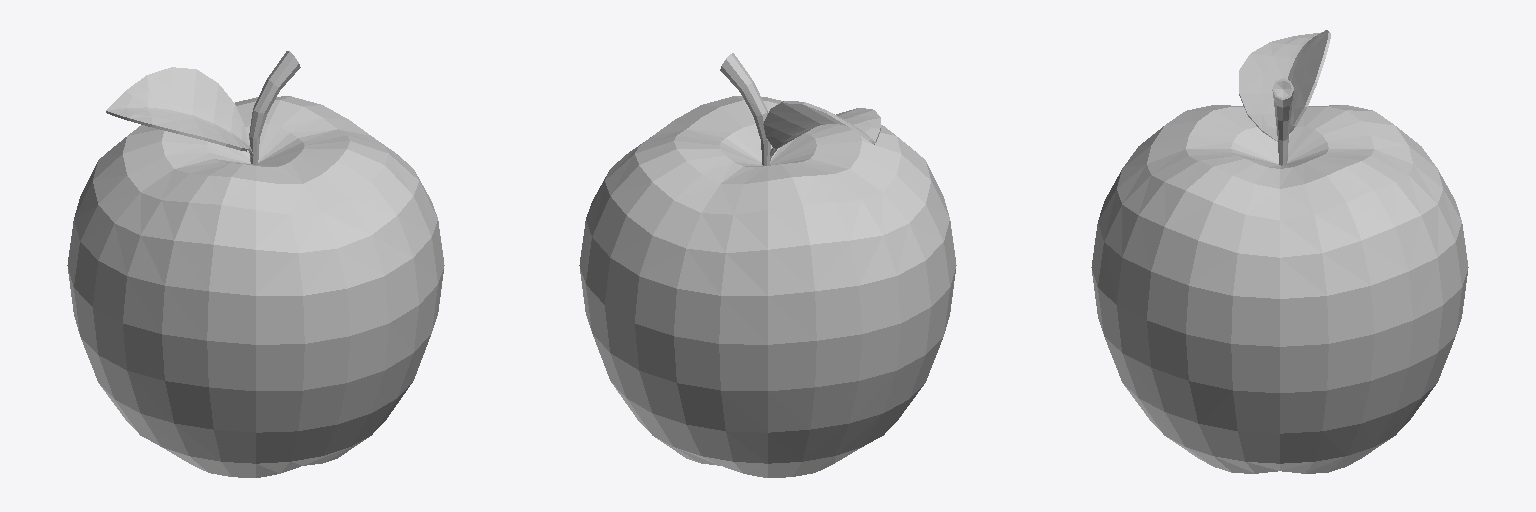
The model's file is jablko.obj.
3 renders of one model, left to right at view 1: azimuth 30°, elevation 25°; view 2: azimuth 150°, elevation 25°; view 3: azimuth 270°, elevation 25°, orthographic.
Visible parts, largest first — view 1: Apple; view 2: Apple; view 3: Apple.
Part boxes in pixels (left/top/right/bottom): Apple: left=67, top=51, right=444, bottom=477; Apple: left=579, top=53, right=956, bottom=477; Apple: left=1091, top=30, right=1468, bottom=473.
Bounding box in the file's own units: 79.89 × 91.12 × 79.89.